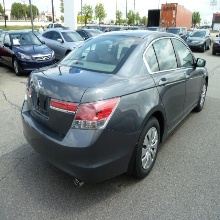no damage: (20, 30, 209, 188), (1, 26, 57, 74), (187, 27, 220, 55)
